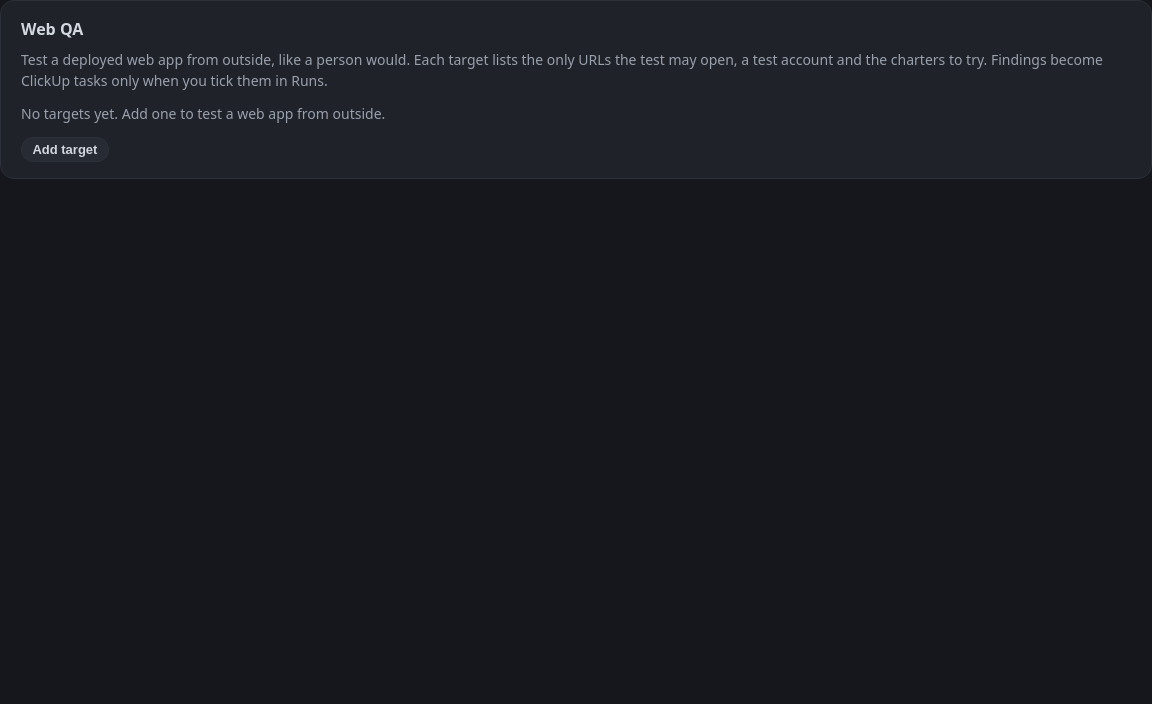
WebQaTargets › refuses a target with no charter next to the Charters heading and sends nothing
Click the button "Add target".
click(65, 150)  # box x1=21 y1=137 x2=109 y2=162
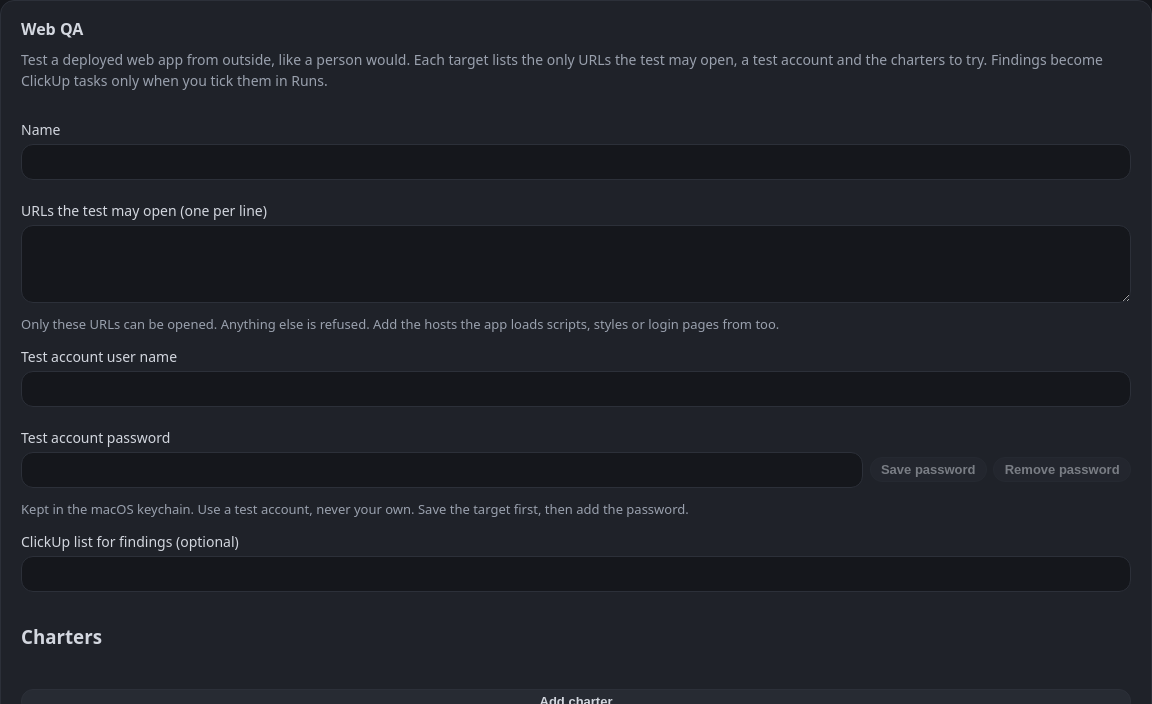
Type "Prod" into the field named "Target name".
click(576, 162); type("Prod")  # box x1=21 y1=144 x2=1131 y2=180
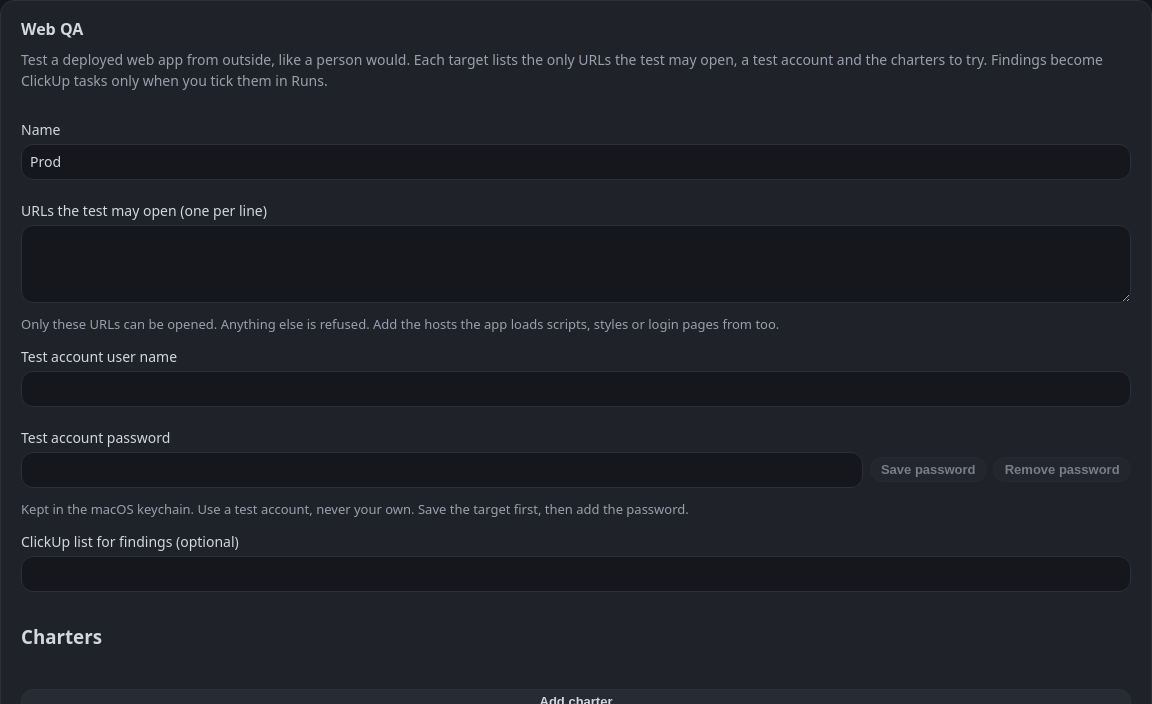
Type "https://app.example.com/" into the text box named "Allowed URLs".
click(576, 264); type("https://app.example.com/")  # box x1=21 y1=225 x2=1131 y2=303
(page scrolled)
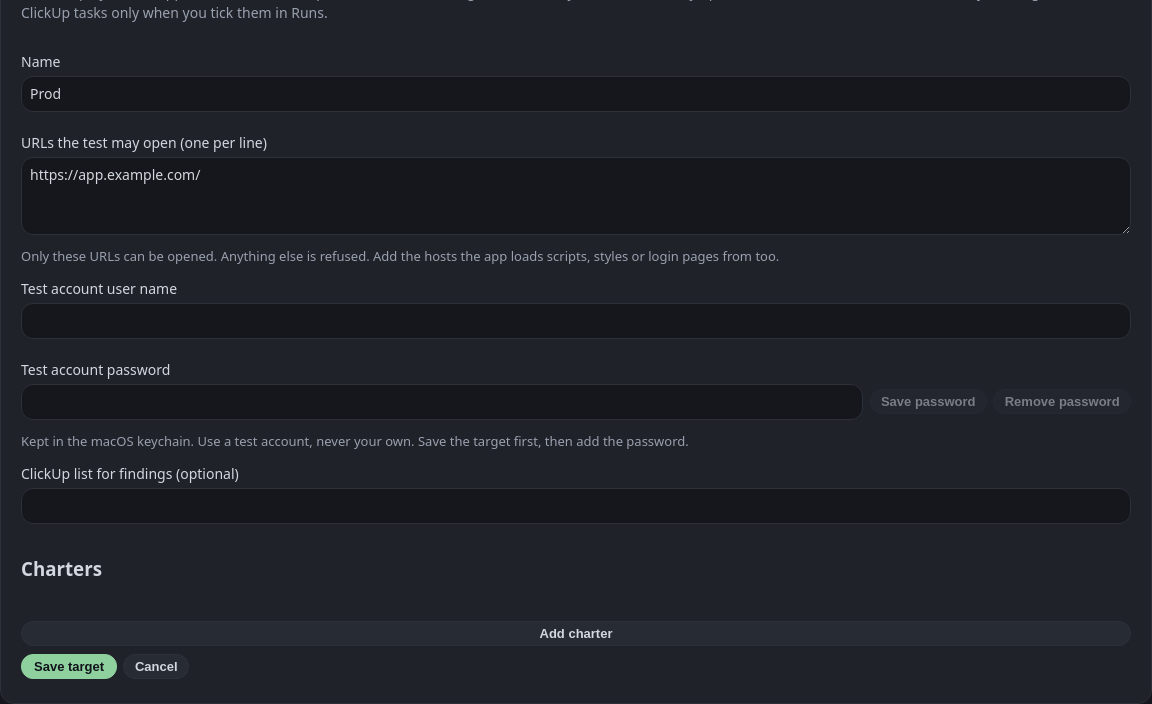
Click the button "Save target".
click(69, 667)  # box x1=21 y1=654 x2=117 y2=679
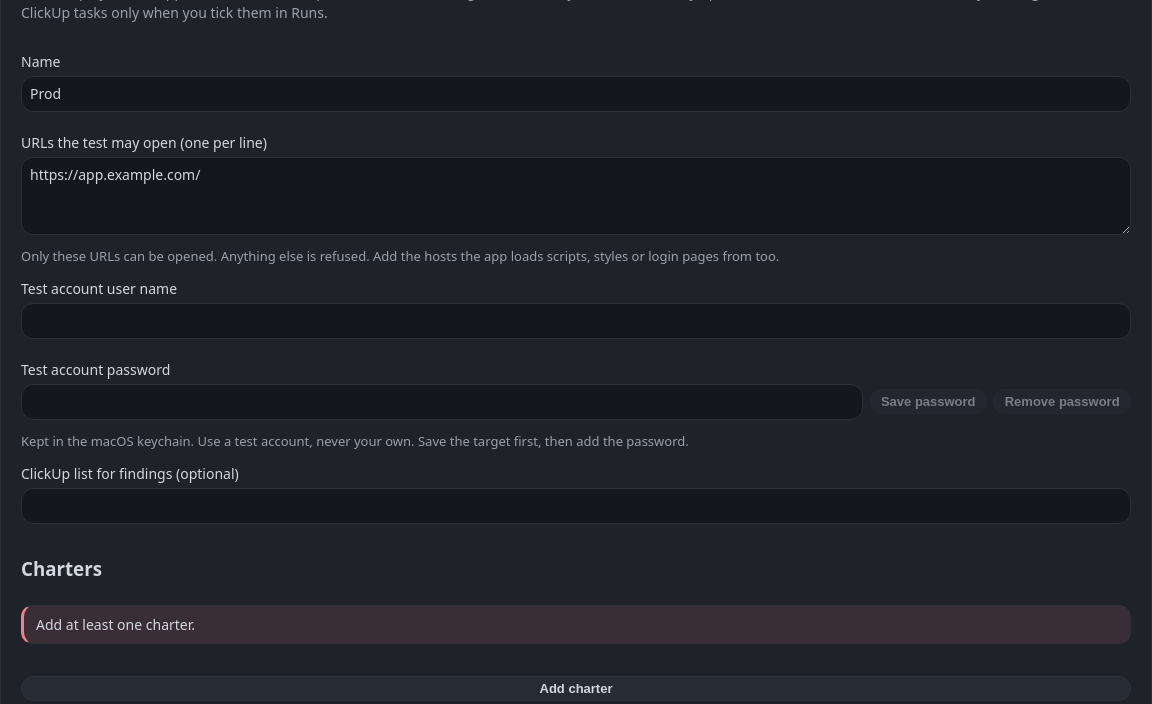
Expected: the text "Add at least one charter." is shown, x1=36 y1=615 x2=195 y2=634
Click the button "Add charter".
click(576, 689)  # box x1=21 y1=676 x2=1131 y2=701
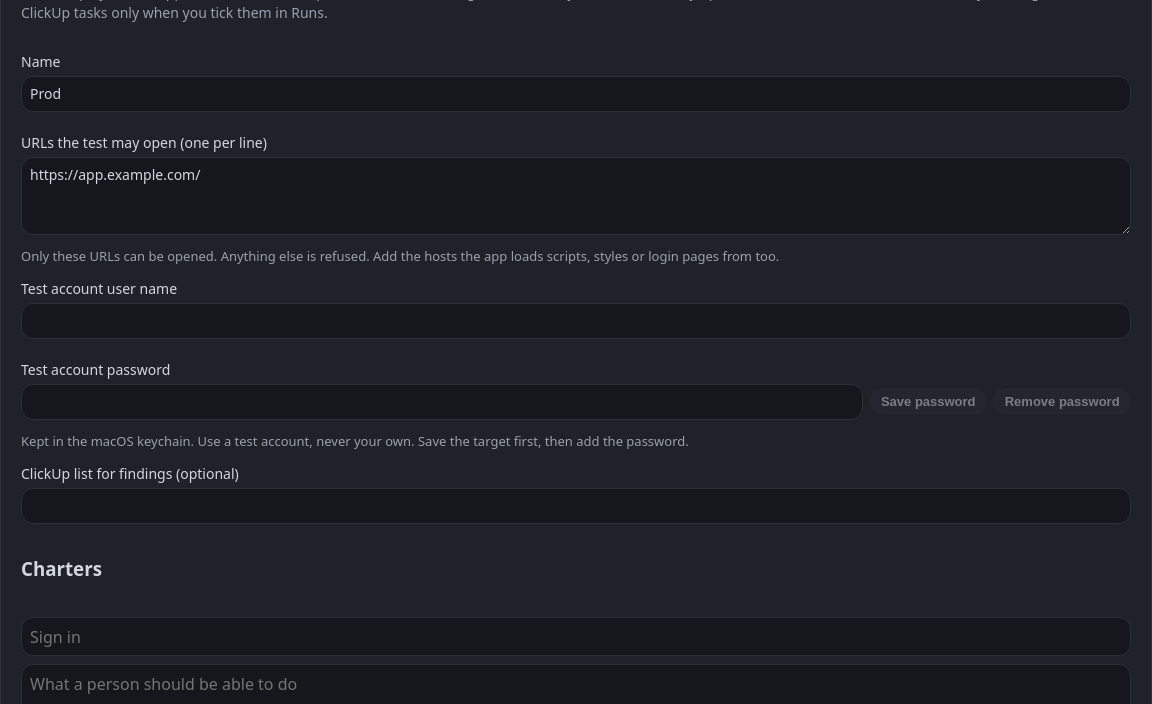
Expected: the text "Add at least one charter." is gone
